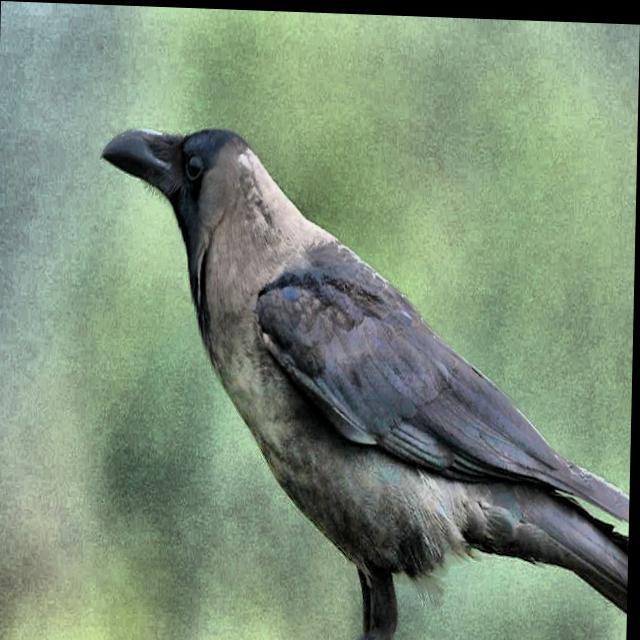crow: (92, 97, 638, 640)
